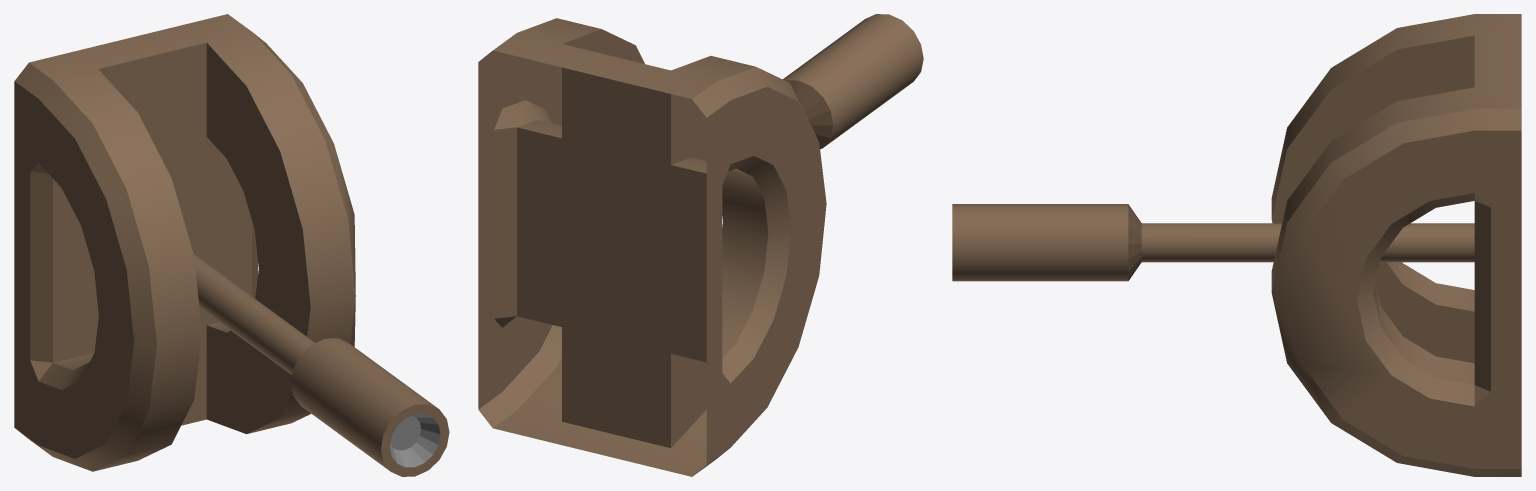
File: Palanca.fbx
3 renders of one model, left to right at view 1: azimuth 30°, elevation 25°; view 2: azimuth 150°, elevation 25°; view 3: azimuth 270°, elevation 25°, orthographic. The views are drawn at different scales.
Parts seen in each view (by area): view 1: Cylinder003.001, Cylinder005; view 2: Cylinder003.001, Cylinder005; view 3: Cylinder003.001, Cylinder005.
Part boxes in pixels (<box>): Cylinder003.001: <box>14,14,355,471</box>; Cylinder005: <box>193,254,449,476</box>; Cylinder003.001: <box>478,18,826,476</box>; Cylinder005: <box>604,14,923,264</box>; Cylinder003.001: <box>1271,14,1521,476</box>; Cylinder005: <box>952,204,1474,281</box>.
Size of the model in its own units: 2.93 by 4.63 by 6.48.
